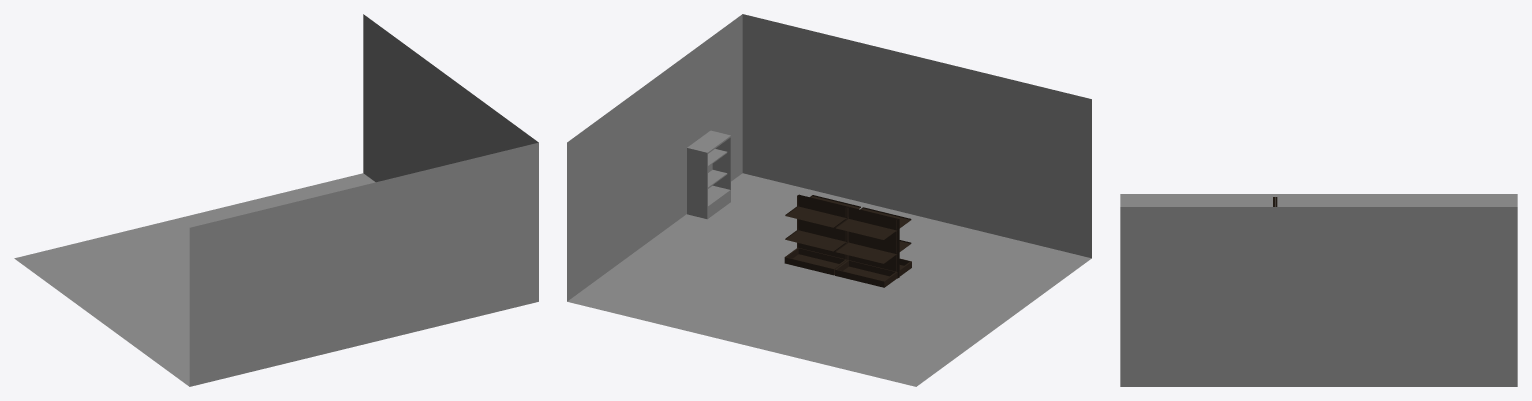
Rendered from Convenience Store2.fbx.
3 views of the same model, side by side, from view 1: azimuth 30°, elevation 25°; view 2: azimuth 150°, elevation 25°; view 3: azimuth 270°, elevation 25° (orthographic). The views are drawn at different scales.
Parts seen in each view (by area): view 1: Cube.029; view 2: Cube.029; view 3: Cube.029.
Part boxes in pixels (x1,y1,x2,y2): Cube.029: [14, 14, 538, 386]; Cube.029: [567, 14, 1091, 386]; Cube.029: [1120, 194, 1517, 386].
Bounding box in the file's own units: 2296 × 1000 × 2000.
